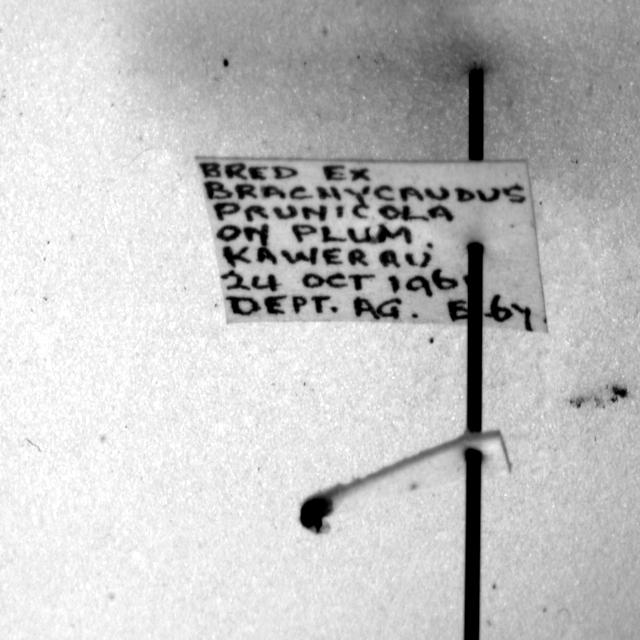hand_label: (196, 158, 548, 332)
